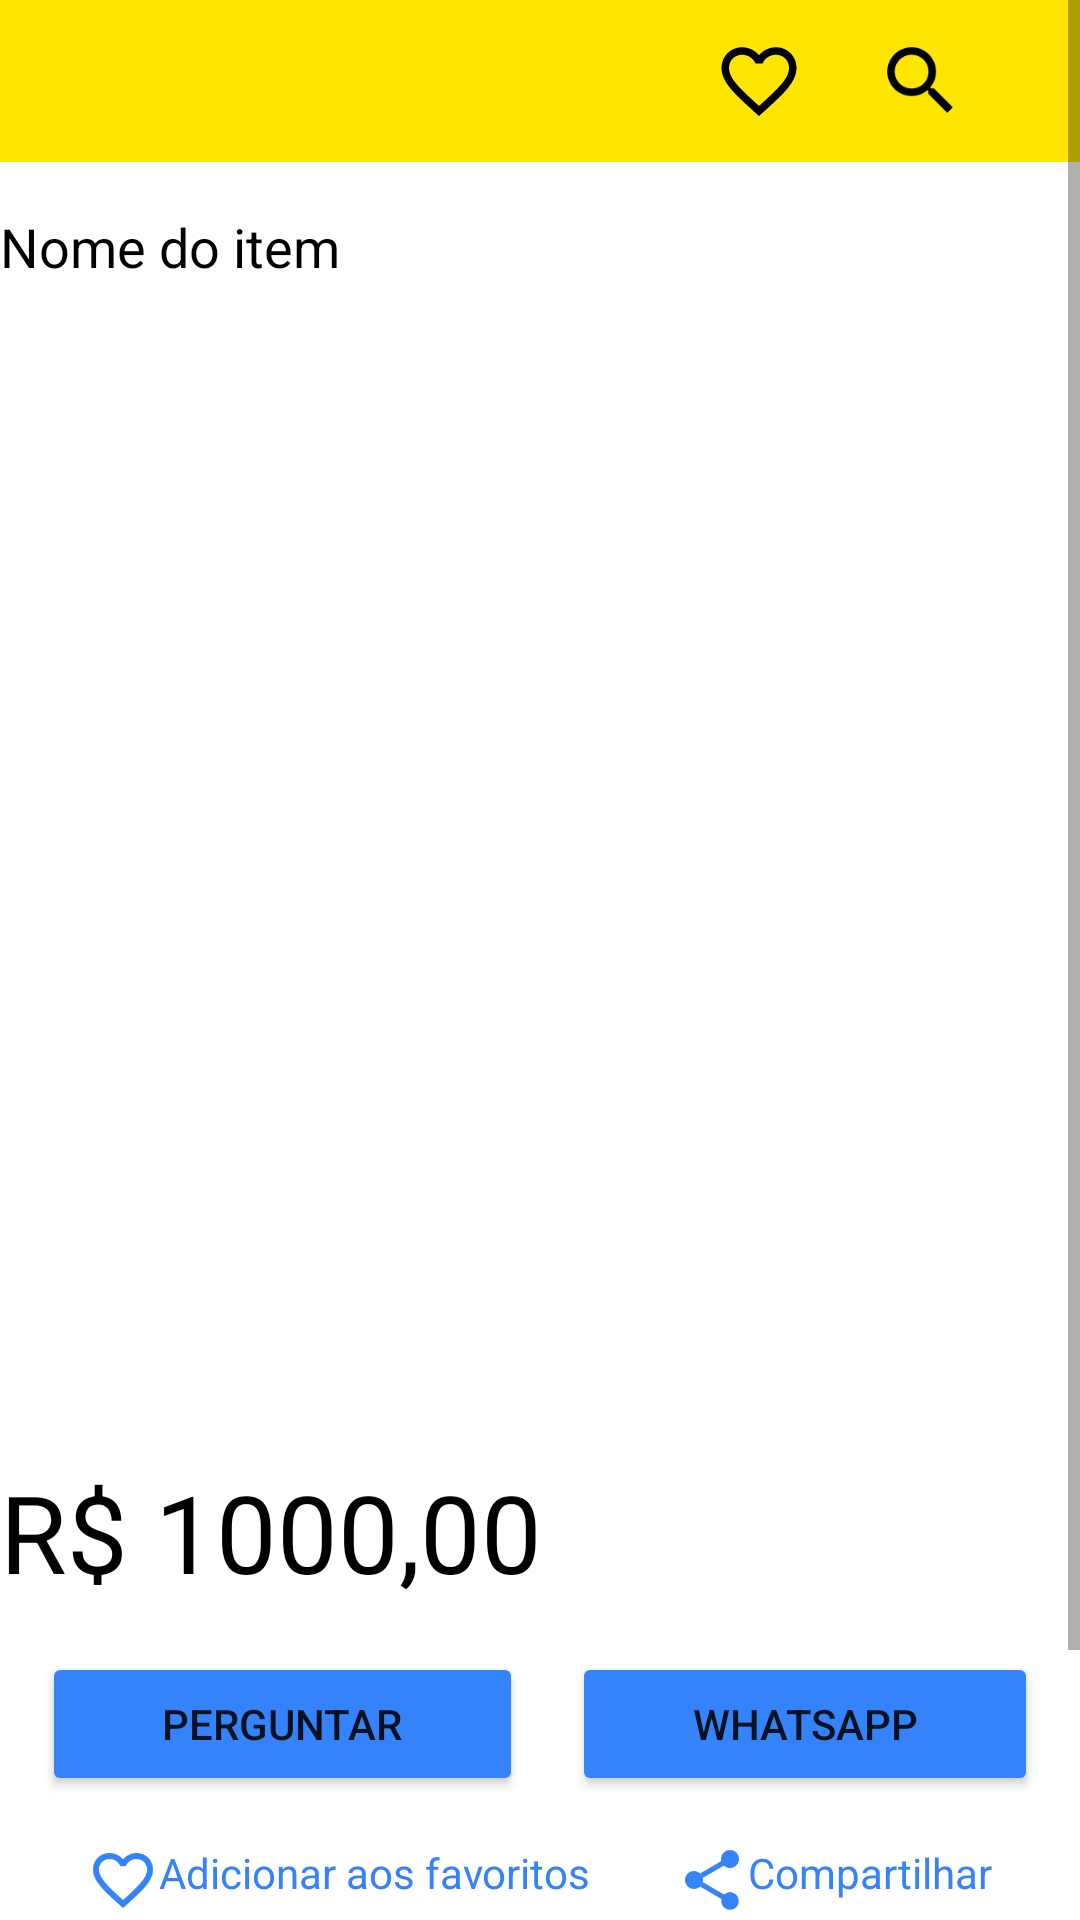

Icons on this 1080px×1920px Android screen, each with the point to tap as (x=x, y=y):
favorite off: (x=759, y=81)
search: (x=920, y=80)
